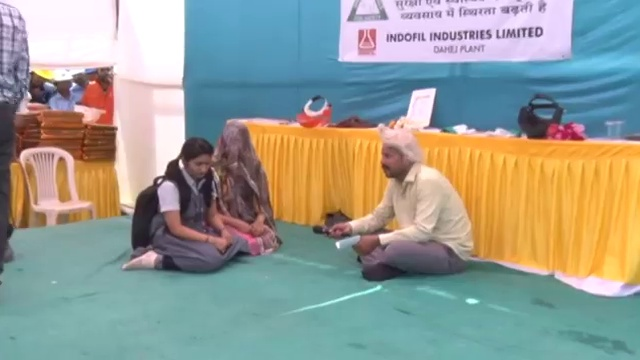helmet: (51, 69, 73, 83), (33, 69, 53, 81), (70, 66, 85, 77)
helmet_off: (371, 127, 424, 185), (174, 137, 214, 188), (217, 124, 256, 176), (95, 67, 113, 85)
helmet_on: (29, 67, 54, 90), (70, 66, 89, 87)
person: (329, 123, 477, 282), (130, 138, 248, 276), (202, 119, 281, 255), (0, 2, 29, 274), (82, 66, 114, 123), (26, 66, 57, 104), (49, 67, 75, 110), (70, 66, 89, 102)
